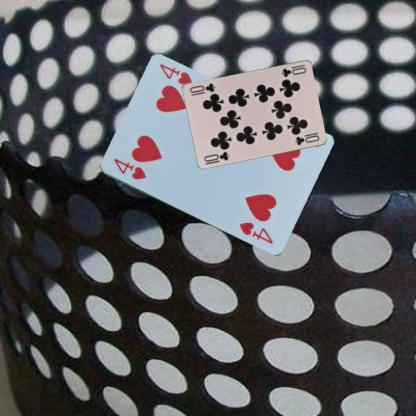10c: (202, 149, 231, 163), (279, 65, 307, 78)
4h: (110, 156, 147, 182)
